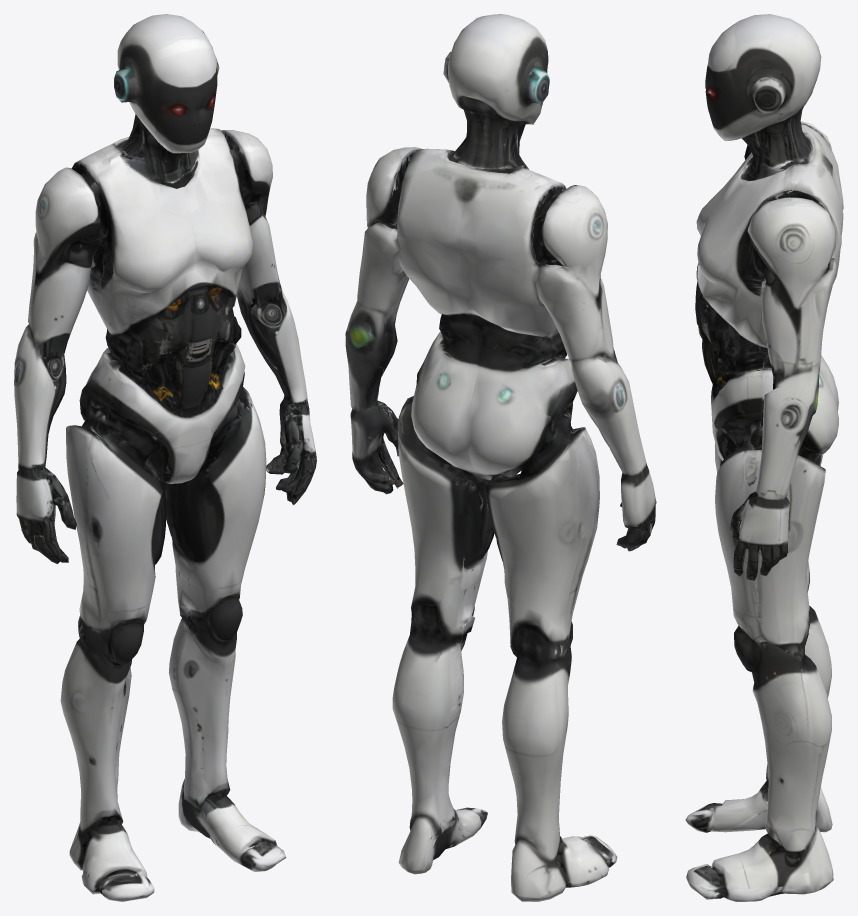
Rendered from make_a_robot_named_Sa_0414153449_texture.glb.
3 views of the same model, side by side, from view 1: azimuth 30°, elevation 25°; view 2: azimuth 150°, elevation 25°; view 3: azimuth 270°, elevation 25° (orthographic).
Bounding box in the file's own units: 0.7141 × 2 × 0.3414.
1 material, 1 textured.
